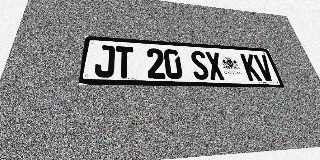0: (163, 49, 183, 79)
2: (146, 48, 166, 79)
J: (94, 45, 115, 78)
K: (240, 54, 262, 81)
S: (189, 50, 210, 80)
T: (114, 46, 133, 78)
V: (253, 54, 276, 81)
X: (204, 51, 226, 80)
